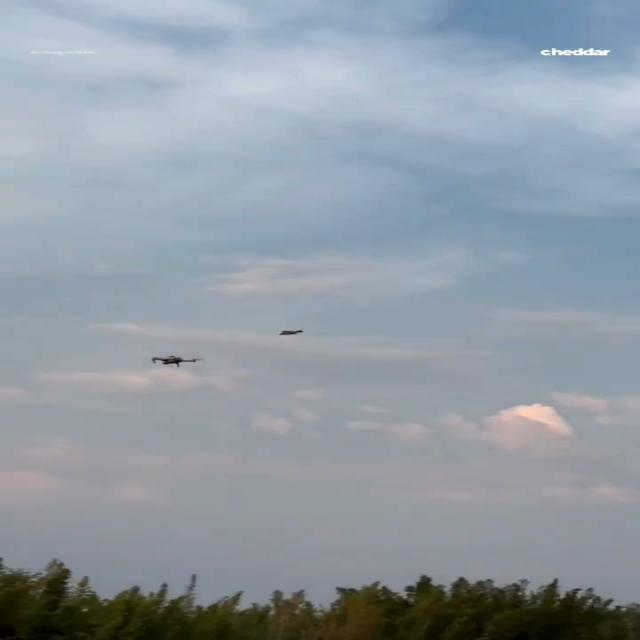bird: (278, 330, 302, 336)
drone: (150, 355, 204, 367)
